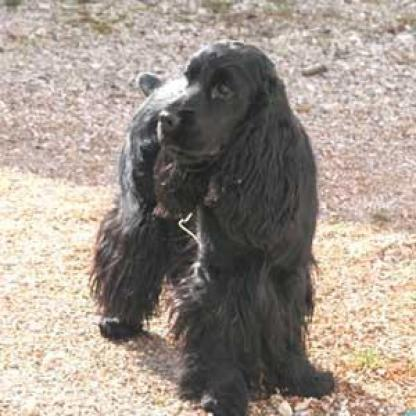Sussex_spaniel: (83, 36, 340, 413)
